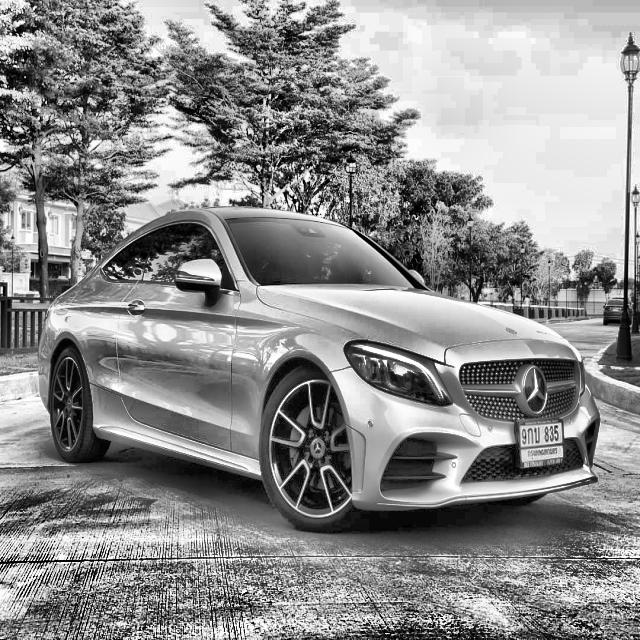license-plate: (512, 418, 568, 477)
